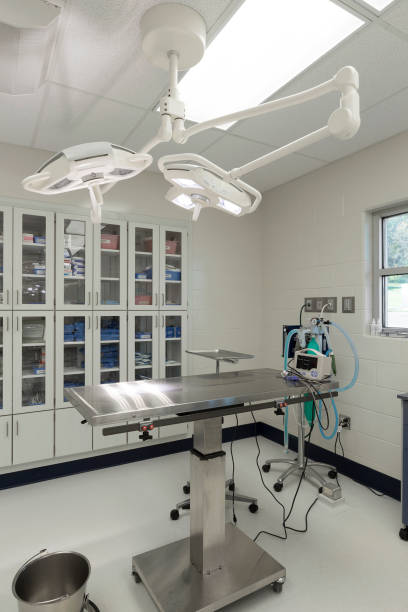bedside_monitor: (296, 353, 328, 376)
breathing_tube: (329, 318, 363, 395)
cabinet: (57, 217, 129, 311), (58, 311, 130, 402), (128, 222, 192, 312), (3, 209, 57, 309), (1, 309, 56, 406), (126, 312, 191, 383)
handle: (6, 289, 11, 307), (15, 289, 20, 307), (16, 420, 21, 437), (6, 422, 11, 439), (16, 316, 21, 333), (6, 316, 11, 333), (155, 315, 159, 330), (162, 315, 166, 330), (96, 315, 100, 330), (89, 315, 93, 330), (96, 292, 100, 307), (89, 292, 93, 307), (162, 294, 166, 308), (156, 294, 160, 308)
operating_bed: (64, 367, 338, 612)
surgical_light: (155, 153, 263, 222), (20, 140, 152, 196)
utility_cart: (170, 349, 257, 520)
waste_bin: (13, 549, 100, 612)
